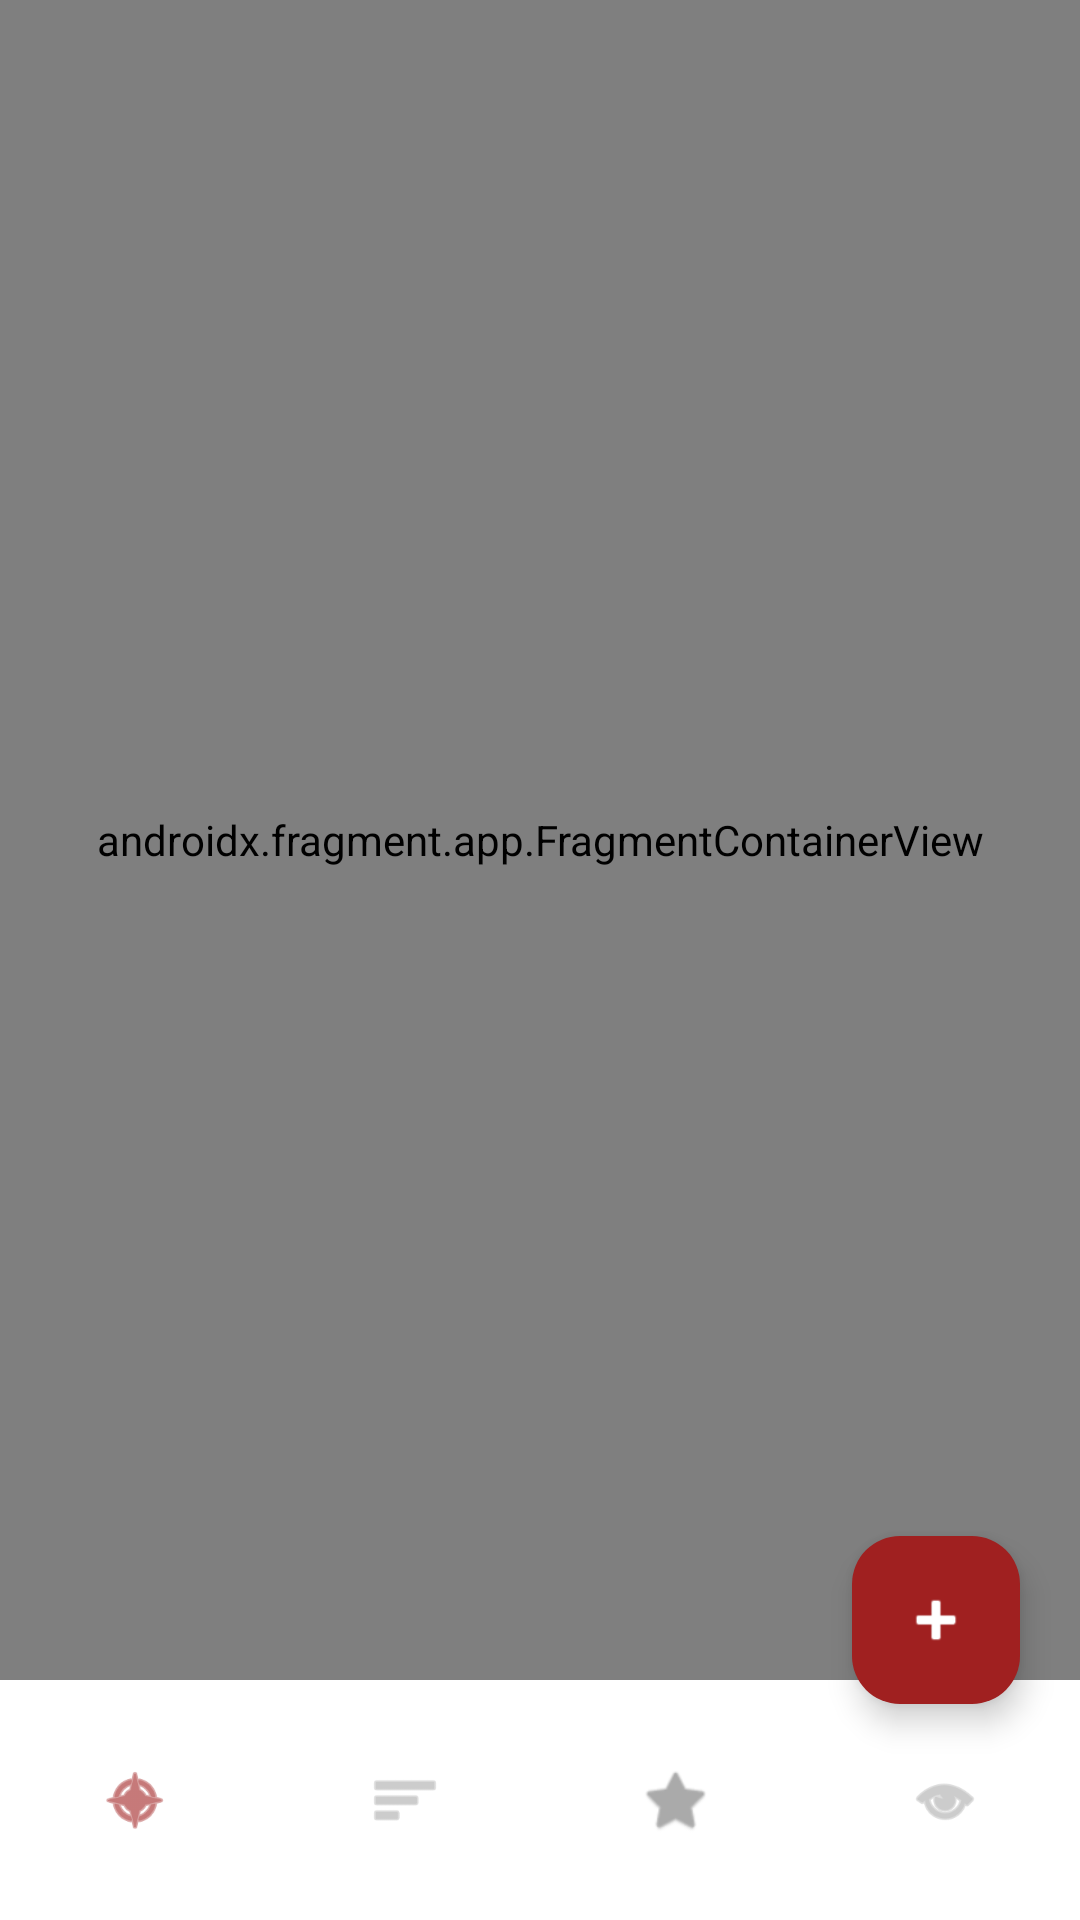

Screen size 1080 x 1920. Icon name, then its center in pixels as (x=x, y=y):
Add: (x=936, y=1620)
